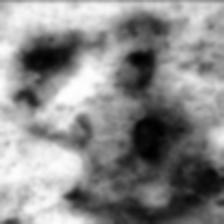Potentially Malignant Skin Tumors: (15, 15, 224, 224)
